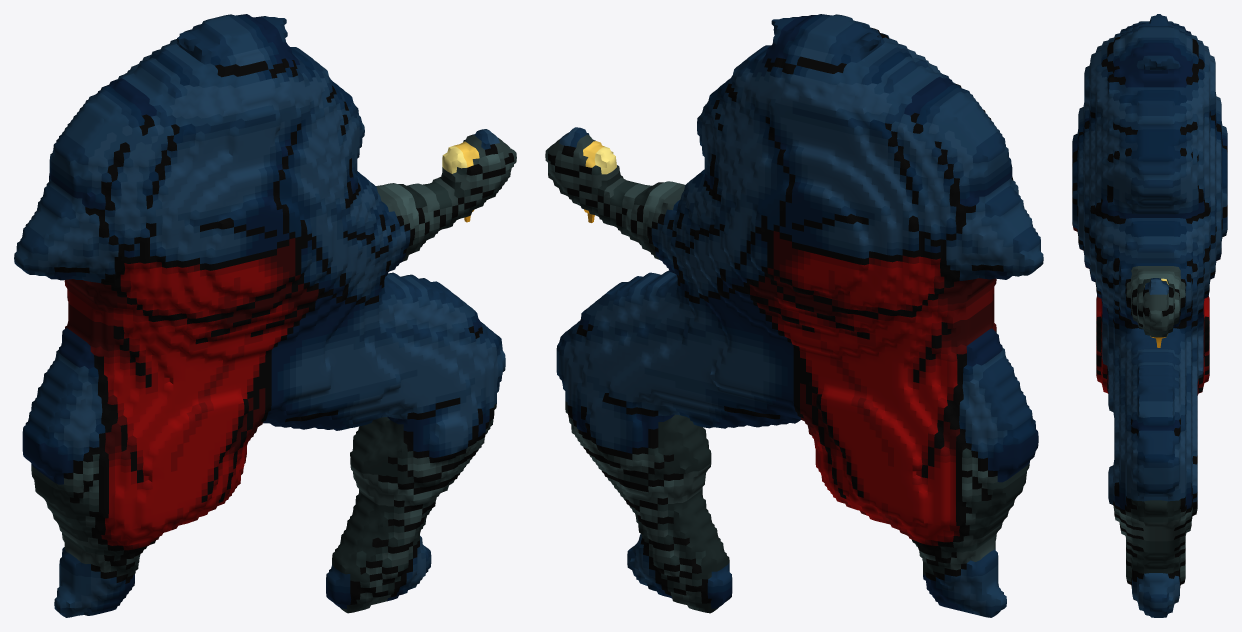
File: Fight_017_2_06.obj
3 renders of one model, left to right at view 1: azimuth 30°, elevation 25°; view 2: azimuth 150°, elevation 25°; view 3: azimuth 270°, elevation 25°, orthographic. The views are drawn at different scales.
Bounding box in the file's own units: 8.1 × 9.6 × 2.6.
